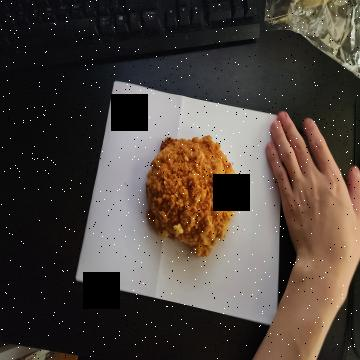soboru_bread: (147, 134, 238, 259)
